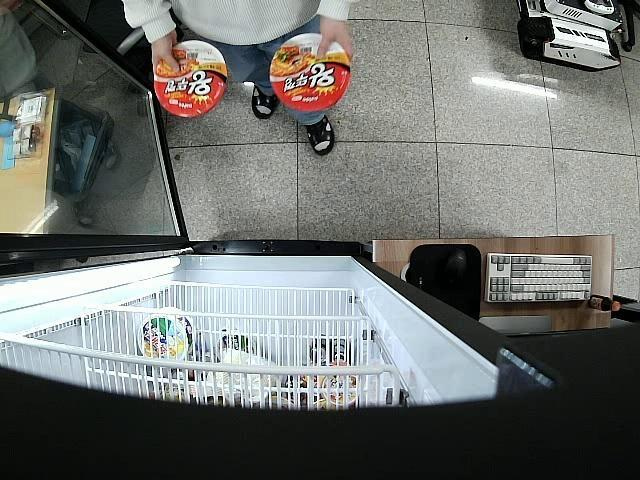10_wangTtukkeong: (270, 33, 350, 112), (156, 41, 227, 116)
